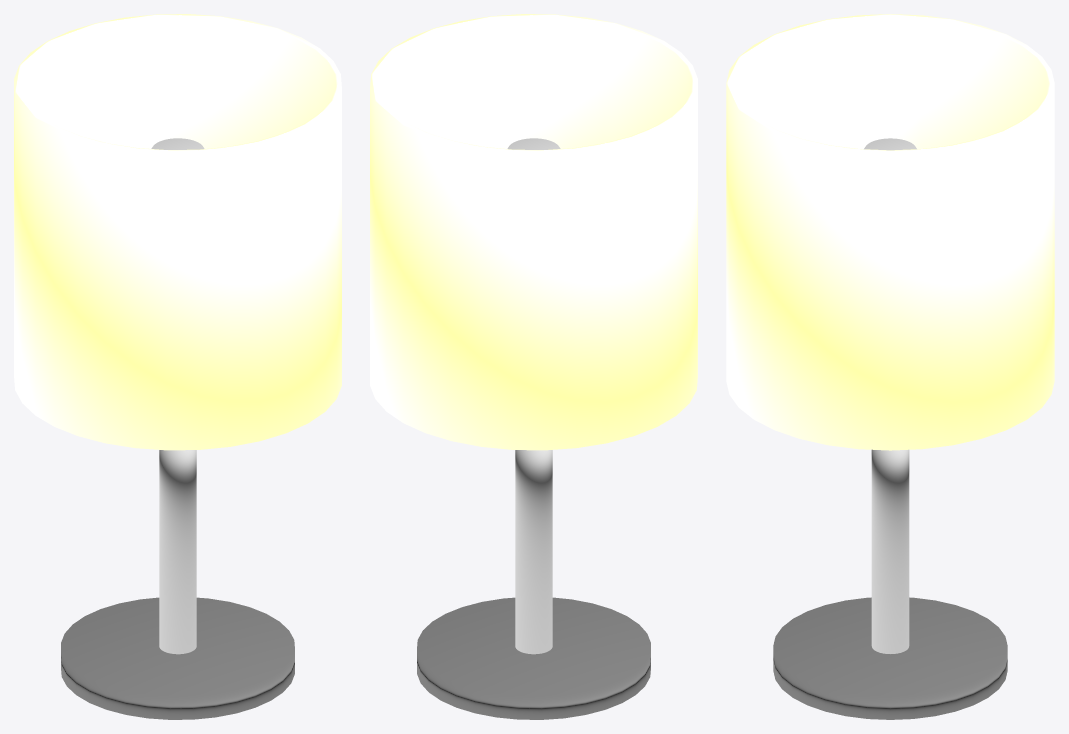
The model's file is litlamptest3.gltf.
The picture shows the model from 3 angles, left to right: view 1: azimuth 30°, elevation 25°; view 2: azimuth 150°, elevation 25°; view 3: azimuth 270°, elevation 25°; orthographic projection.
Visible parts, largest first — view 1: Cylinder.007, Cylinder.005, Cylinder.006; view 2: Cylinder.007, Cylinder.005, Cylinder.006; view 3: Cylinder.007, Cylinder.005, Cylinder.006.
Boxes of the visible parts, x1=… form: Cylinder.007: x1=14, y1=14, x2=341, y2=450; Cylinder.005: x1=61, y1=597, x2=294, y2=719; Cylinder.006: x1=151, y1=138, x2=204, y2=654; Cylinder.007: x1=370, y1=14, x2=697, y2=450; Cylinder.005: x1=417, y1=597, x2=650, y2=719; Cylinder.006: x1=507, y1=138, x2=560, y2=654; Cylinder.007: x1=726, y1=14, x2=1054, y2=450; Cylinder.005: x1=773, y1=597, x2=1007, y2=719; Cylinder.006: x1=864, y1=138, x2=916, y2=653.
Bounding box in the file's own units: 1 × 1.98 × 1.
